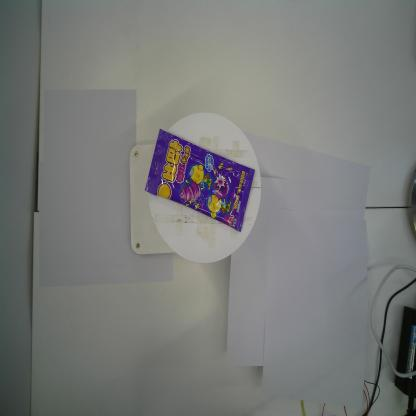Candy: (143, 127, 256, 234)
